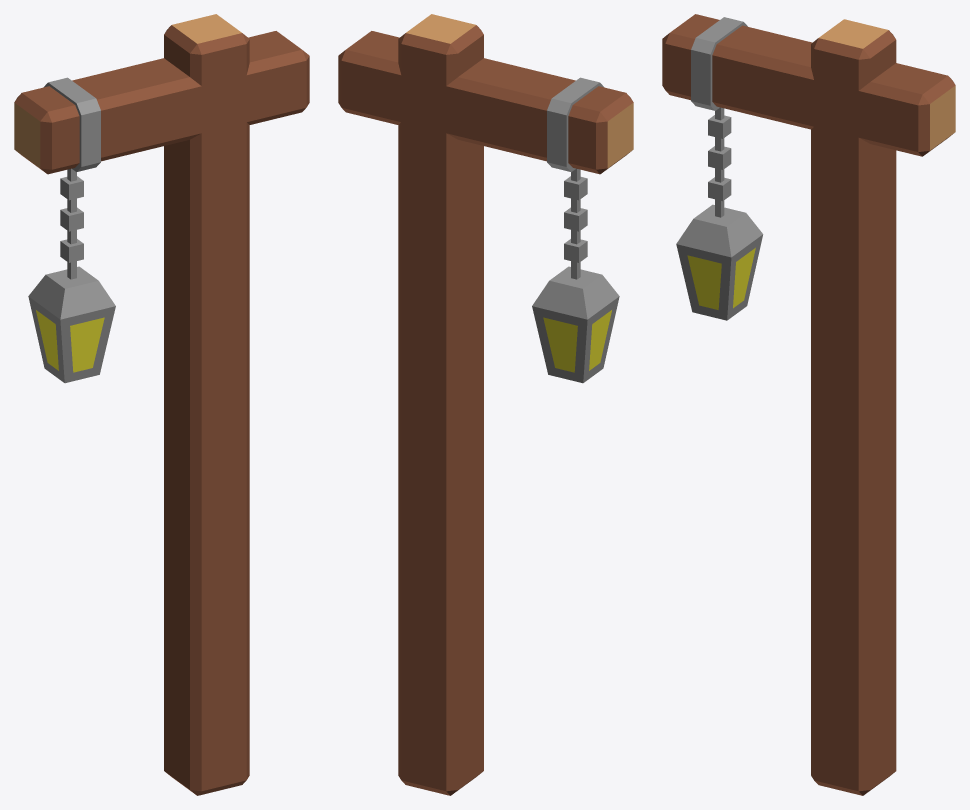
File: Light.fbx
The picture shows the model from 3 angles, left to right: view 1: azimuth 30°, elevation 25°; view 2: azimuth 150°, elevation 25°; view 3: azimuth 330°, elevation 25°; orthographic projection.
Parts seen in each view (by area): view 1: Light_Pillar, Light; view 2: Light_Pillar, Light; view 3: Light_Pillar, Light.
Part boxes in pixels (x1,y1,x2,y2): Light_Pillar: [14, 14, 309, 795]; Light: [28, 168, 115, 383]; Light_Pillar: [338, 14, 633, 795]; Light: [532, 168, 619, 383]; Light_Pillar: [662, 14, 955, 795]; Light: [676, 107, 763, 320].
Size of the model in its own units: 0.45 by 1.2 by 0.11.
